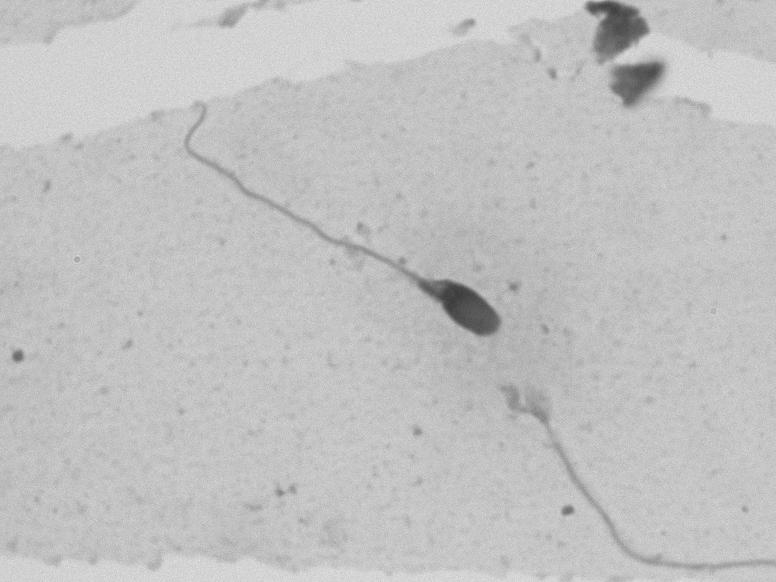Abnormal: (169, 109, 506, 366)
